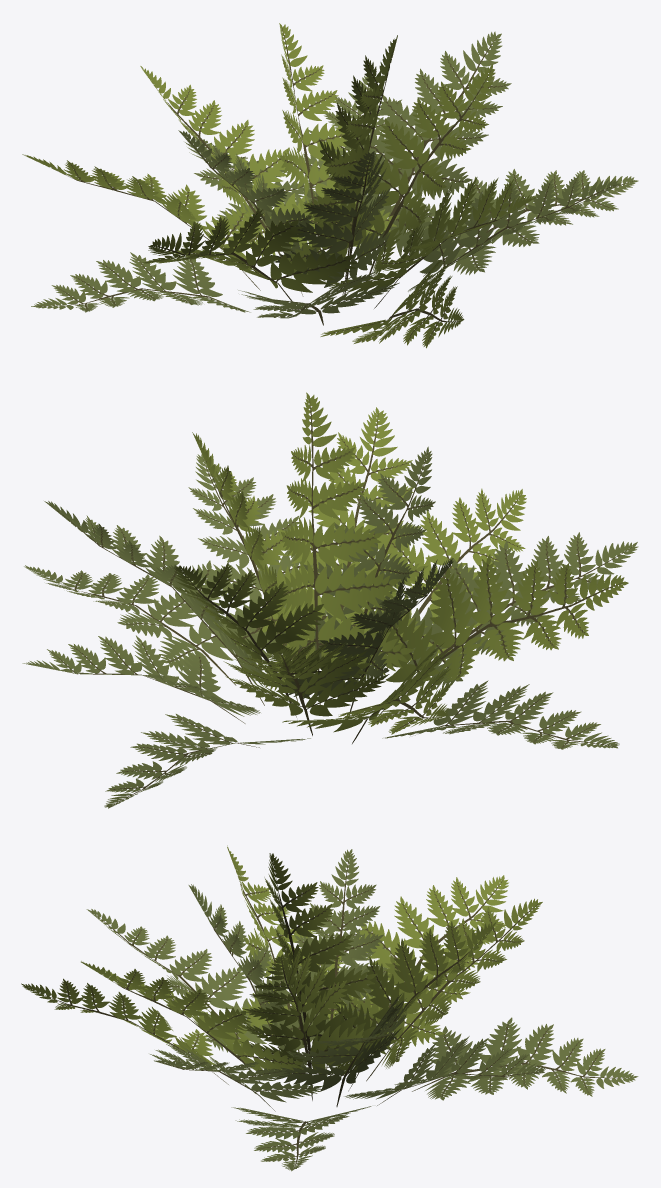
The model's file is Fern_1c.fbx.
3 renders of one model, top to bottom at view 1: azimuth 30°, elevation 25°; view 2: azimuth 150°, elevation 25°; view 3: azimuth 270°, elevation 25°, orthographic. The views are drawn at different scales.
Visible parts, largest first — view 1: Fern_1c; view 2: Fern_1c; view 3: Fern_1c.
Boxes of the visible parts, left/top/right/bottom form: Fern_1c: left=22, top=23, right=638, bottom=348; Fern_1c: left=22, top=392, right=638, bottom=808; Fern_1c: left=21, top=845, right=638, bottom=1171.
Size of the model in its own units: 250 by 112 by 244.
Materials: 1 (1 with a texture image).
